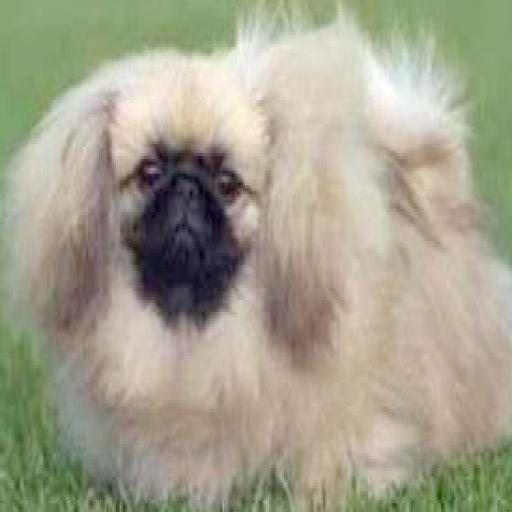dog_face: (14, 58, 345, 360)
